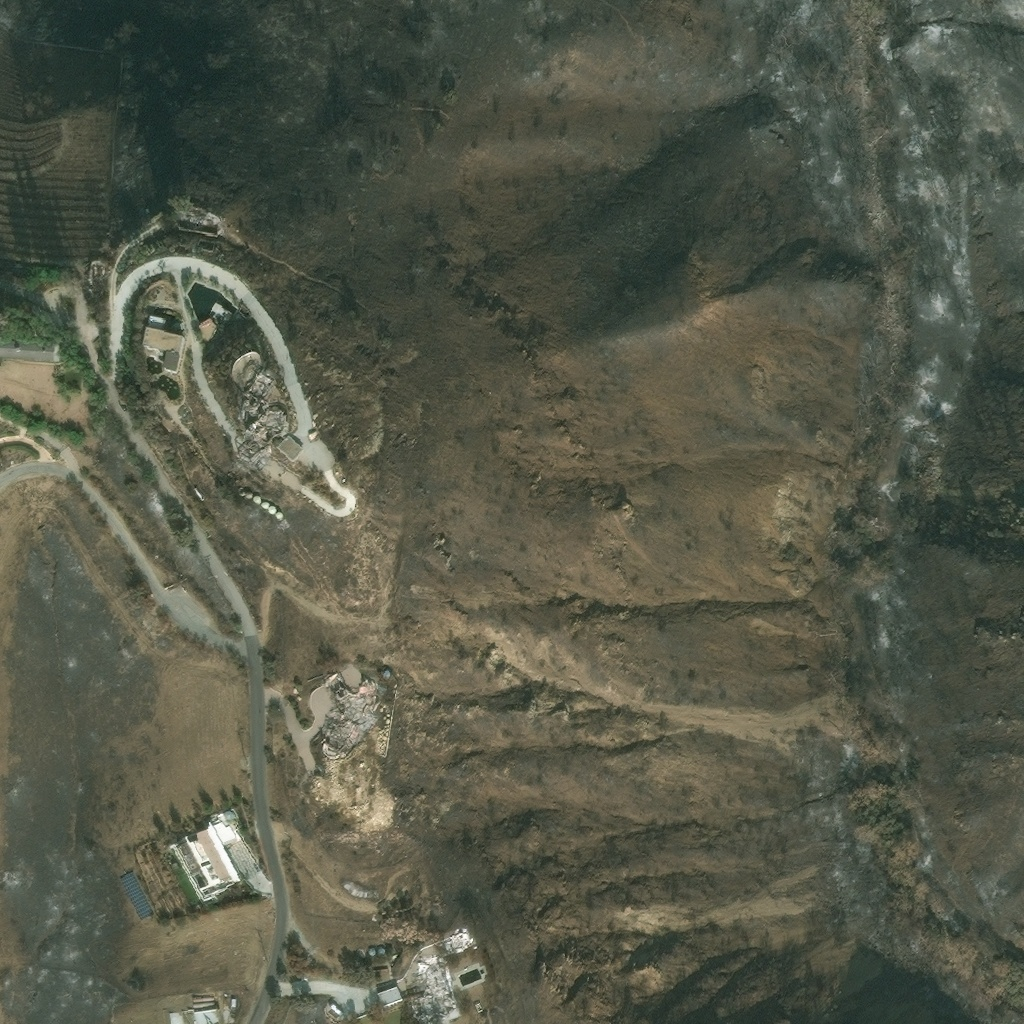0 no-damage: (167, 816, 240, 904), (140, 327, 185, 374), (120, 871, 153, 919), (0, 341, 55, 363), (175, 212, 219, 237), (277, 435, 302, 461), (197, 316, 221, 343), (86, 265, 105, 298), (376, 986, 403, 1009), (193, 1008, 220, 1023), (146, 316, 164, 331), (168, 1011, 184, 1023), (243, 491, 253, 500), (253, 496, 262, 506), (274, 512, 283, 522), (267, 506, 276, 515), (261, 501, 269, 510), (377, 949, 385, 956), (368, 948, 375, 956)
1 minor-damage: (473, 1001, 483, 1014)
3 destroyed: (321, 670, 377, 752), (237, 368, 280, 468), (410, 954, 455, 1021), (443, 931, 469, 952), (381, 671, 391, 681)
